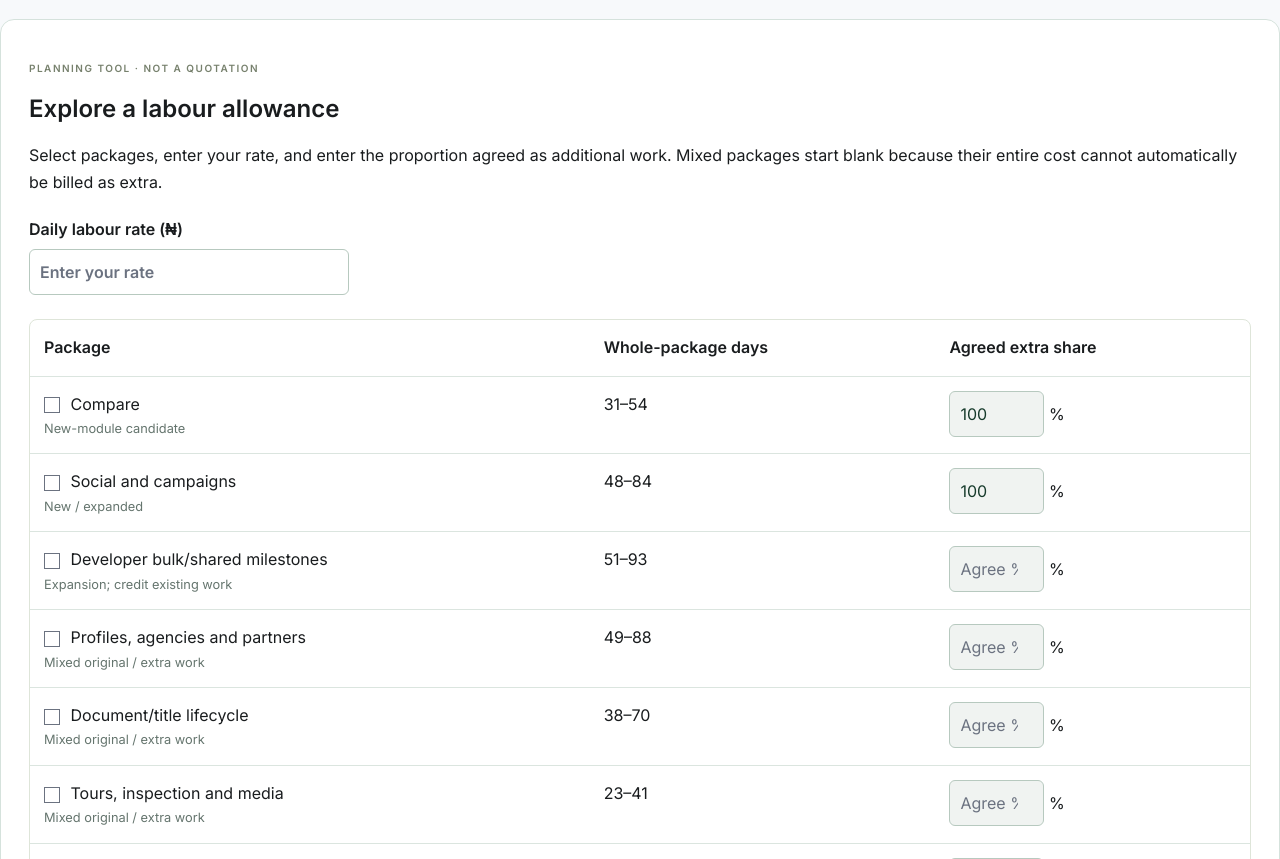
Test: audit planning allowance › calculates the chosen increment while keeping the original balance separate
Step 1. Type "20000" into the number field labelled "Daily labour rate (₦)" → (189, 272), box [29,249,349,295]
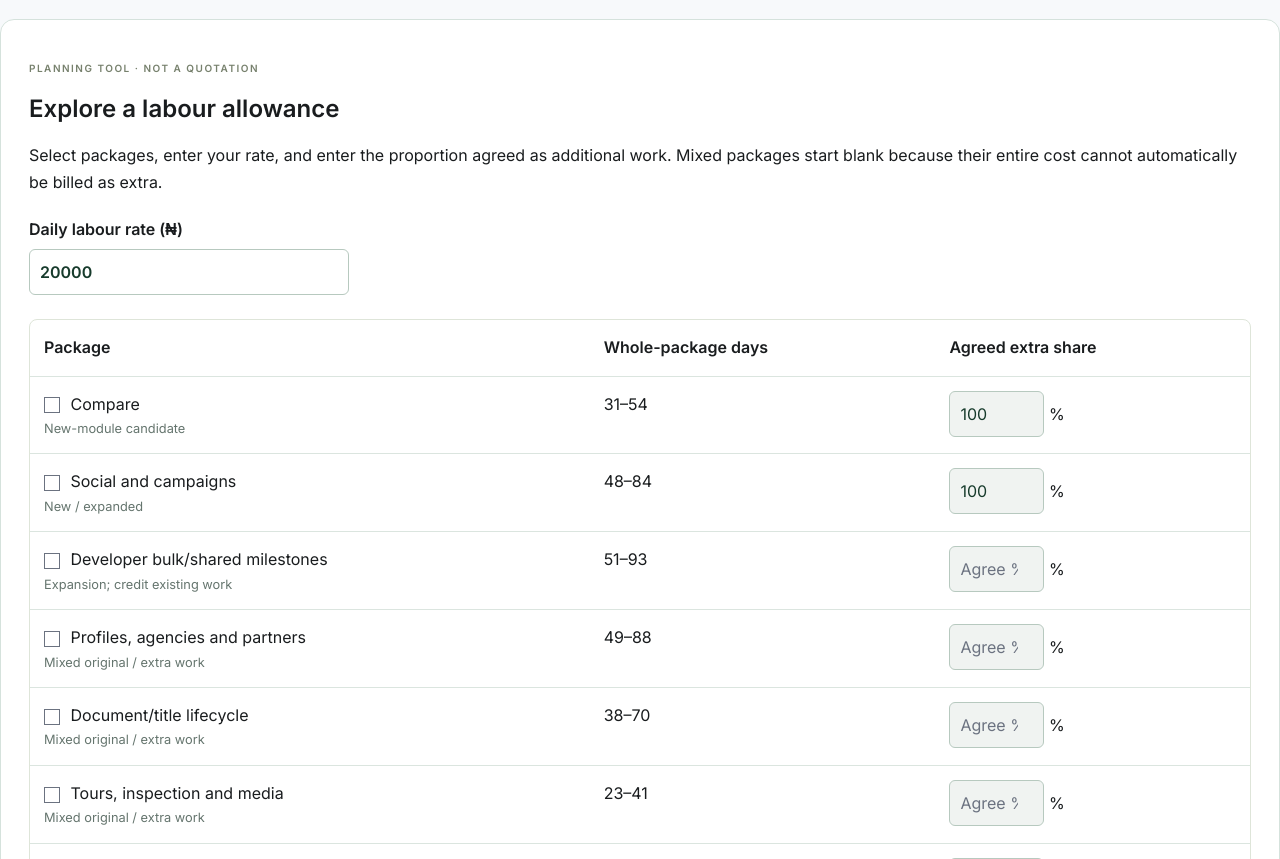
Step 2. Click the checkbox labelled "Compare" → (52, 405), box [44,397,60,413]
(page scrolled)
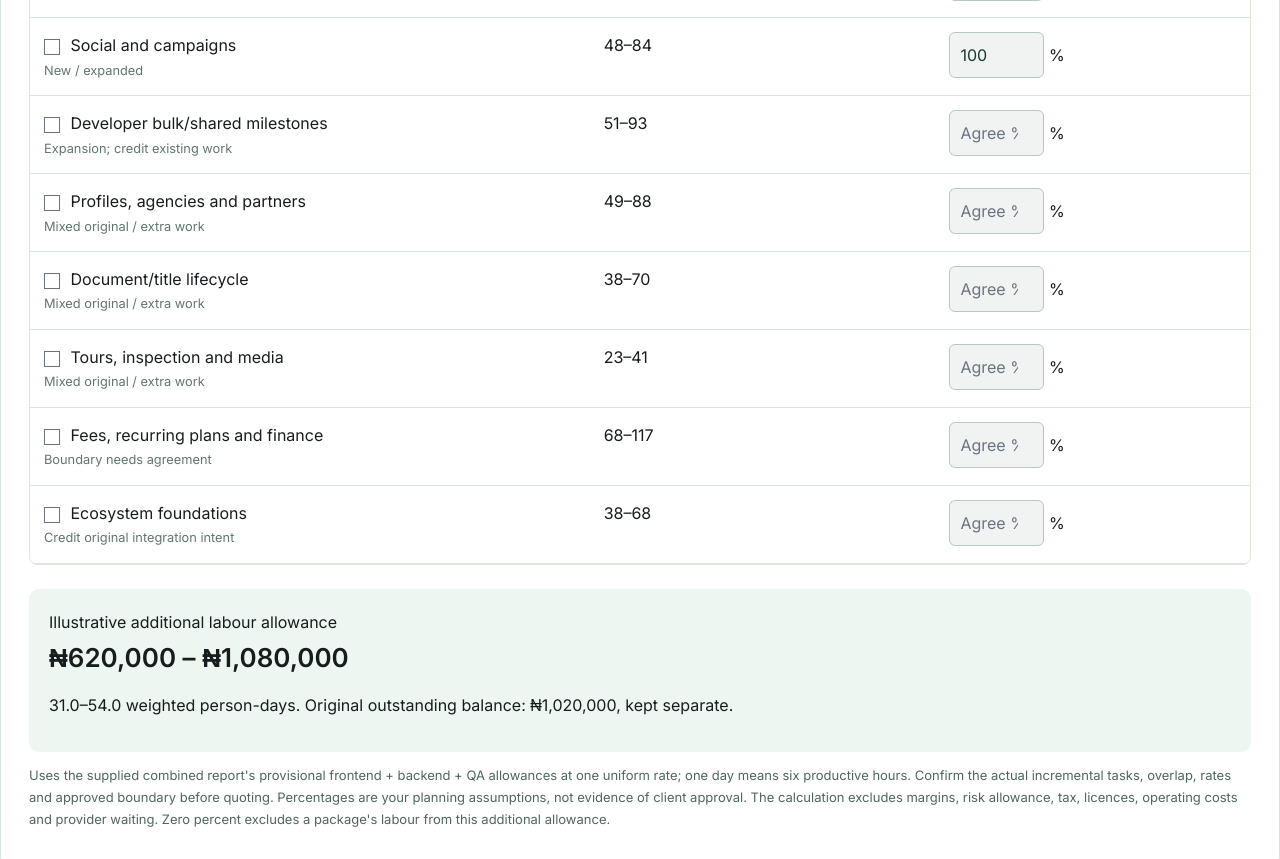
expect the text "₦620,000 – ₦1,080,000" is shown: met, box [49,642,349,673]
